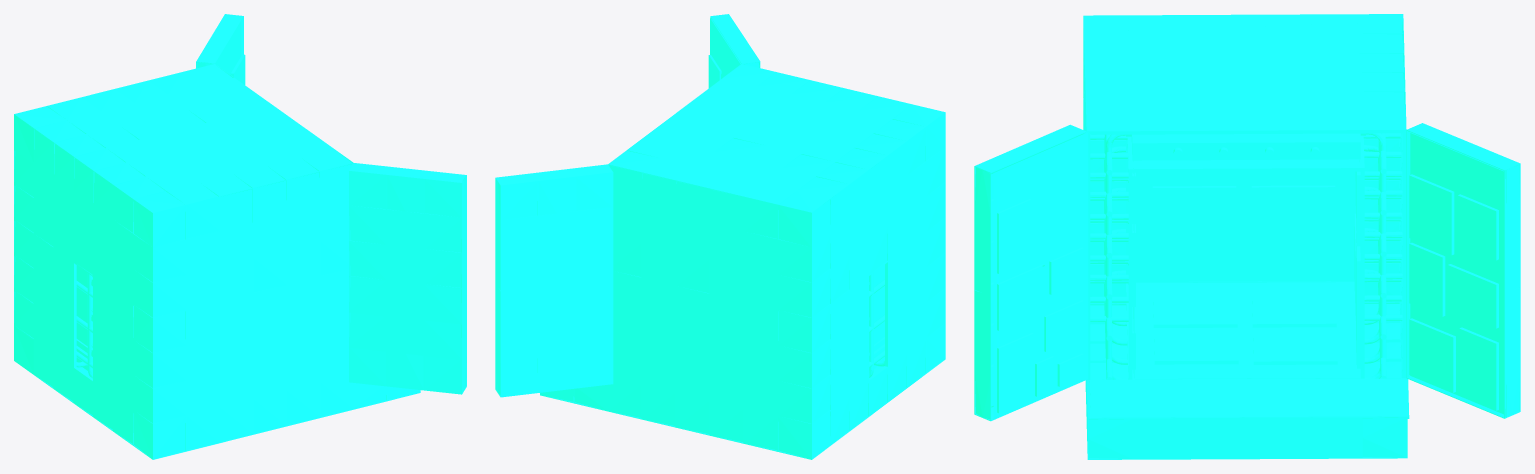
File: PROJECTIVECITIES3JS.glb
The picture shows the model from 3 angles, left to right: view 1: azimuth 30°, elevation 25°; view 2: azimuth 150°, elevation 25°; view 3: azimuth 270°, elevation 25°; orthographic projection. The views are drawn at different scales.
Visible parts, largest first — view 1: Model.001; view 2: Model.001; view 3: Model.001.
Boxes of the visible parts, left/top/right/bottom form: Model.001: left=14, top=14, right=466, bottom=459; Model.001: left=495, top=14, right=945, bottom=459; Model.001: left=974, top=14, right=1520, bottom=459.
Size of the model in its own units: 5.27 by 4.49 by 7.66.
